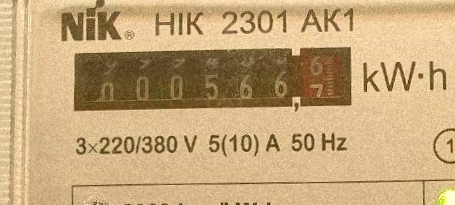0: (167, 71, 185, 101), (133, 71, 150, 101), (97, 77, 116, 101)
5: (202, 70, 220, 100)
6: (271, 66, 290, 98), (235, 70, 254, 99), (308, 53, 325, 78)
7: (308, 81, 324, 99)
9: (100, 55, 119, 75)
screen: (63, 37, 358, 120)
